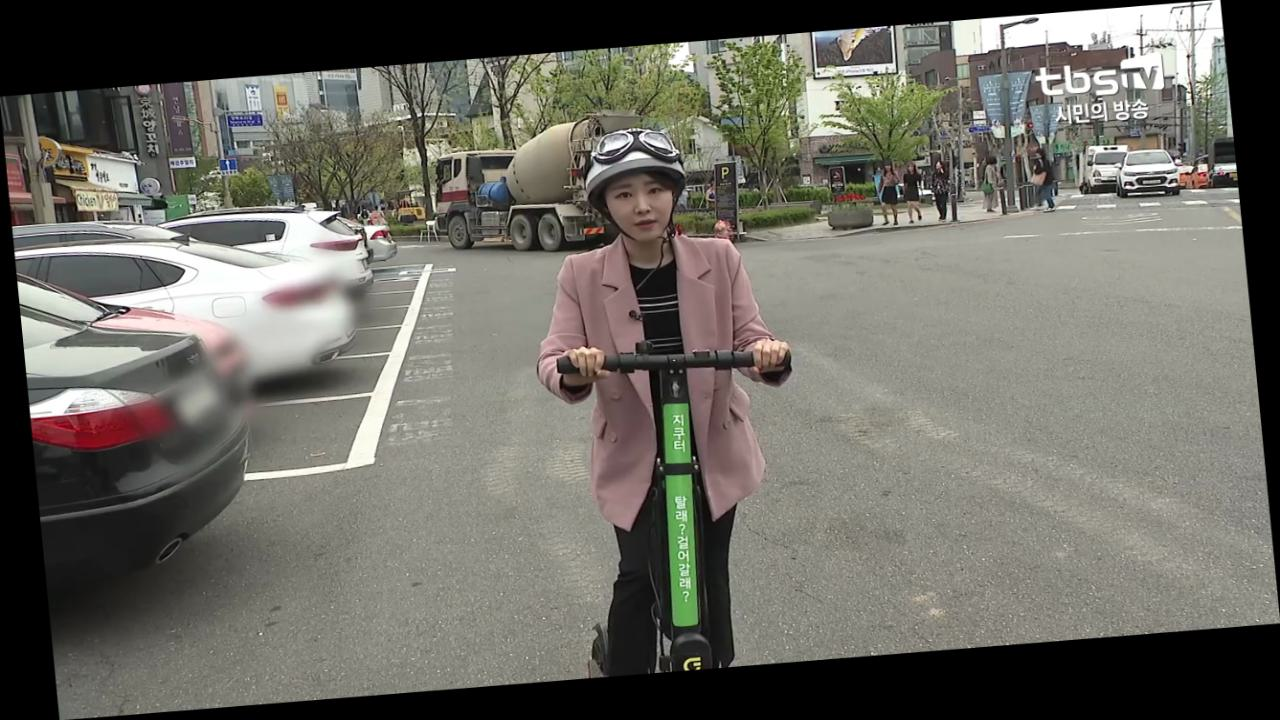helmet: (514, 117, 824, 680)
